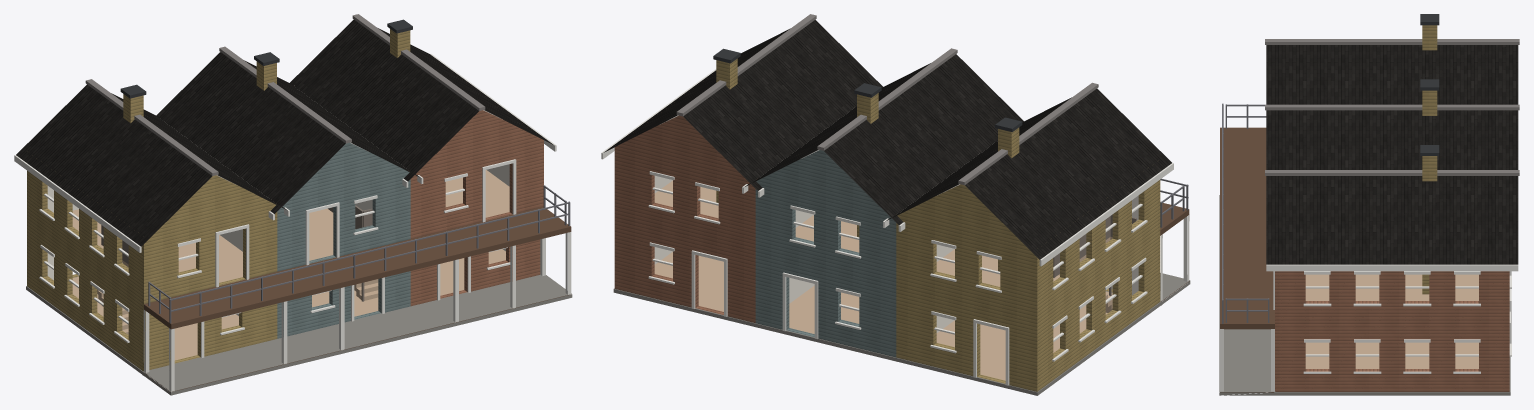
The model's file is mh-worker-row.towns-v2.lod0.glb.
The picture shows the model from 3 angles, left to right: view 1: azimuth 30°, elevation 25°; view 2: azimuth 150°, elevation 25°; view 3: azimuth 270°, elevation 25°; orthographic projection. The views are drawn at different scales.
Parts seen in each view (by area): view 1: mh-worker-row; view 2: mh-worker-row; view 3: mh-worker-row.
Boxes of the visible parts, x1,y1,x2,y2 form: mh-worker-row: (14, 14, 572, 395); mh-worker-row: (601, 14, 1190, 395); mh-worker-row: (1219, 14, 1519, 395).
Bounding box in the file's own units: 19.38 × 9.47 × 12.03.
Materials: 5 (2 with a texture image).
